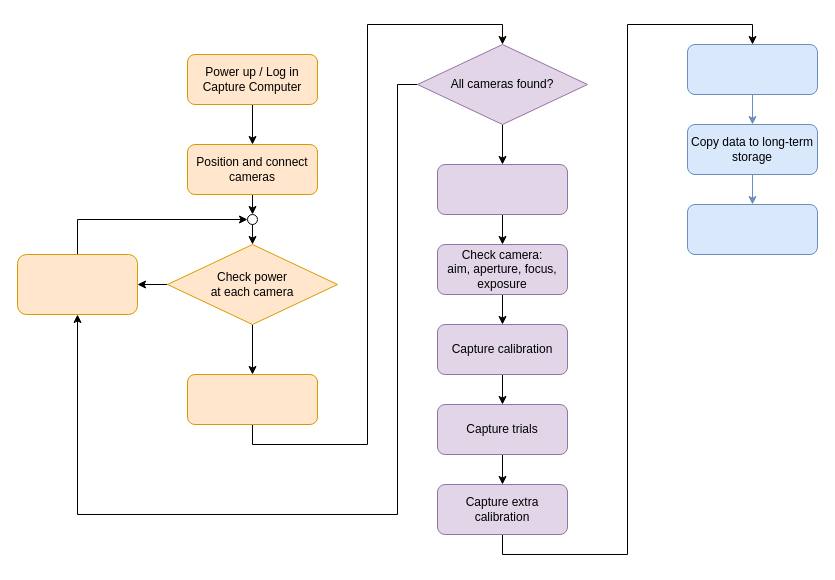
Image size: 835x580. Some labels were removed from this diagram. The shapes that lost their labels are listed below. From the top down, each one's box as (x1, y1, x2, y2) in pixels, then its label:
(686, 44, 818, 94): Post-process with session manager
(436, 164, 568, 214): Set framerate/ recording duration
(686, 204, 818, 254): Remove data from Grabbie
(16, 254, 138, 314): Power-cycle grabbers Check cables Check connectors Reboot
(186, 374, 318, 424): Start Recording tool sisoRec
